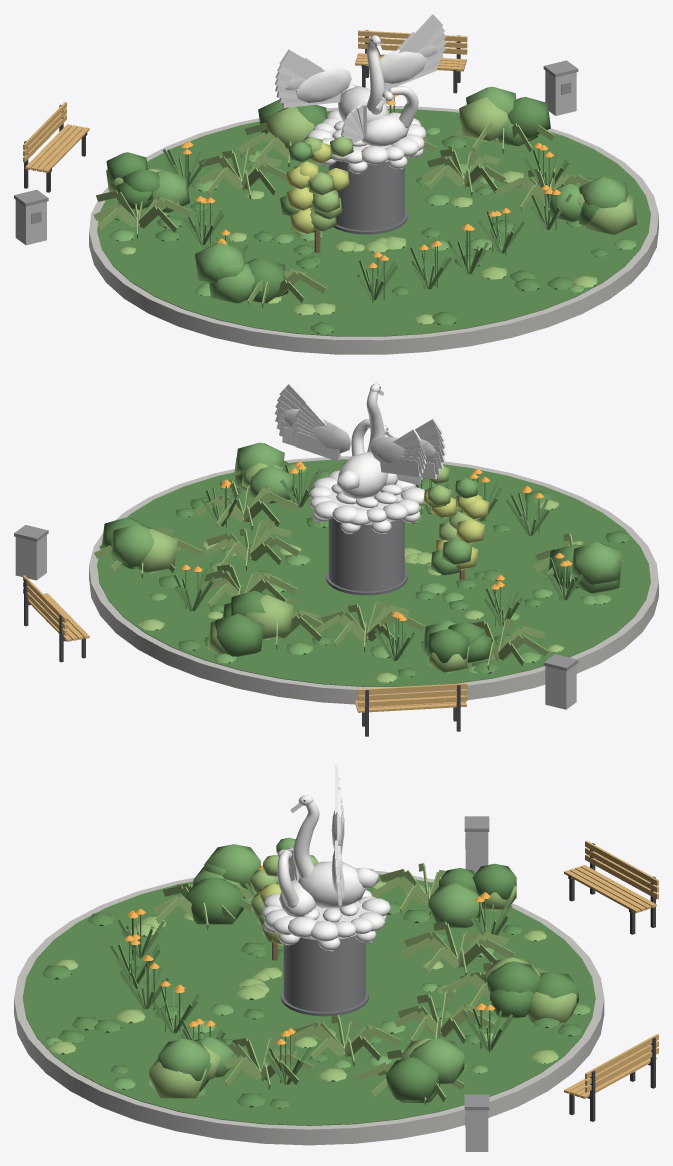
3 renders of one model, top to bottom at view 1: azimuth 30°, elevation 25°; view 2: azimuth 150°, elevation 25°; view 3: azimuth 270°, elevation 25°, orthographic. The views are drawn at different scales.
Visible parts, largest first — view 1: base; view 2: base; view 3: base.
Part boxes in pixels (x1=…): base: x1=14, y1=14, x2=658, y2=354; base: x1=14, y1=383, x2=658, y2=736; base: x1=14, y1=765, x2=658, y2=1151.
Size of the model in its own units: 11.06 by 3.88 by 10.38.
